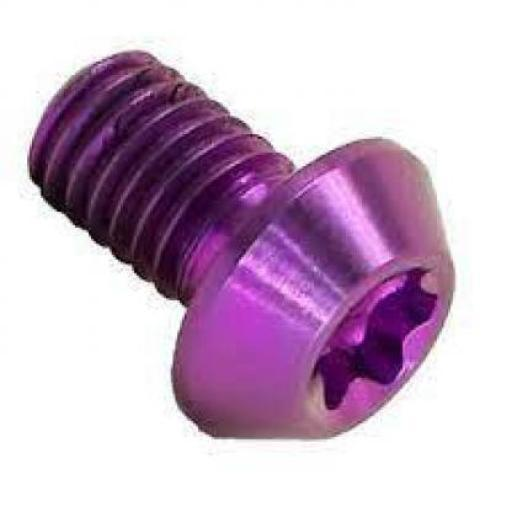Bolt: (27, 49, 458, 443)
